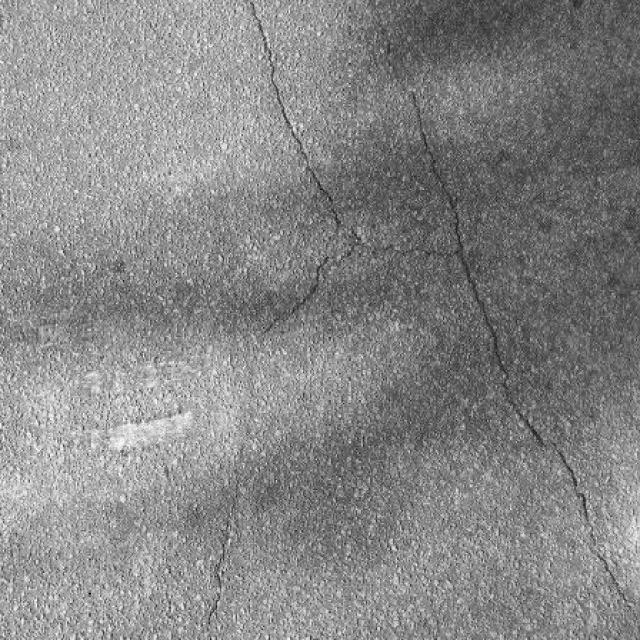Crack: (253, 5, 630, 607), (208, 482, 239, 636)
